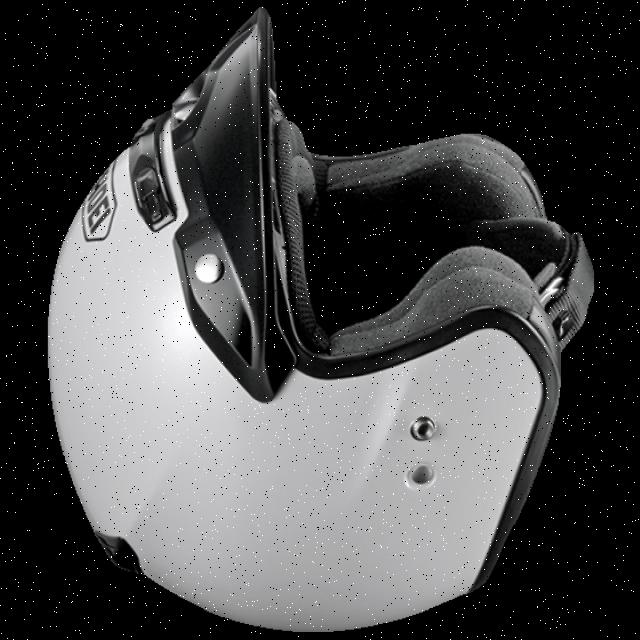Helmet: (48, 9, 592, 630)
